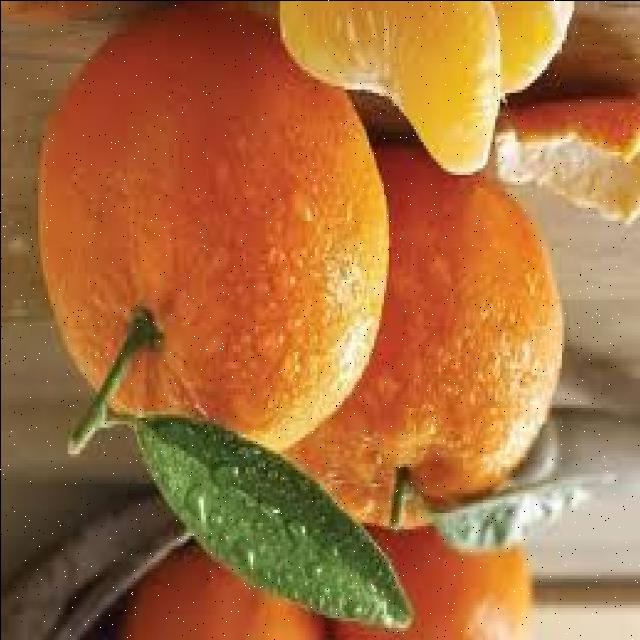Orange: (36, 10, 390, 453)
